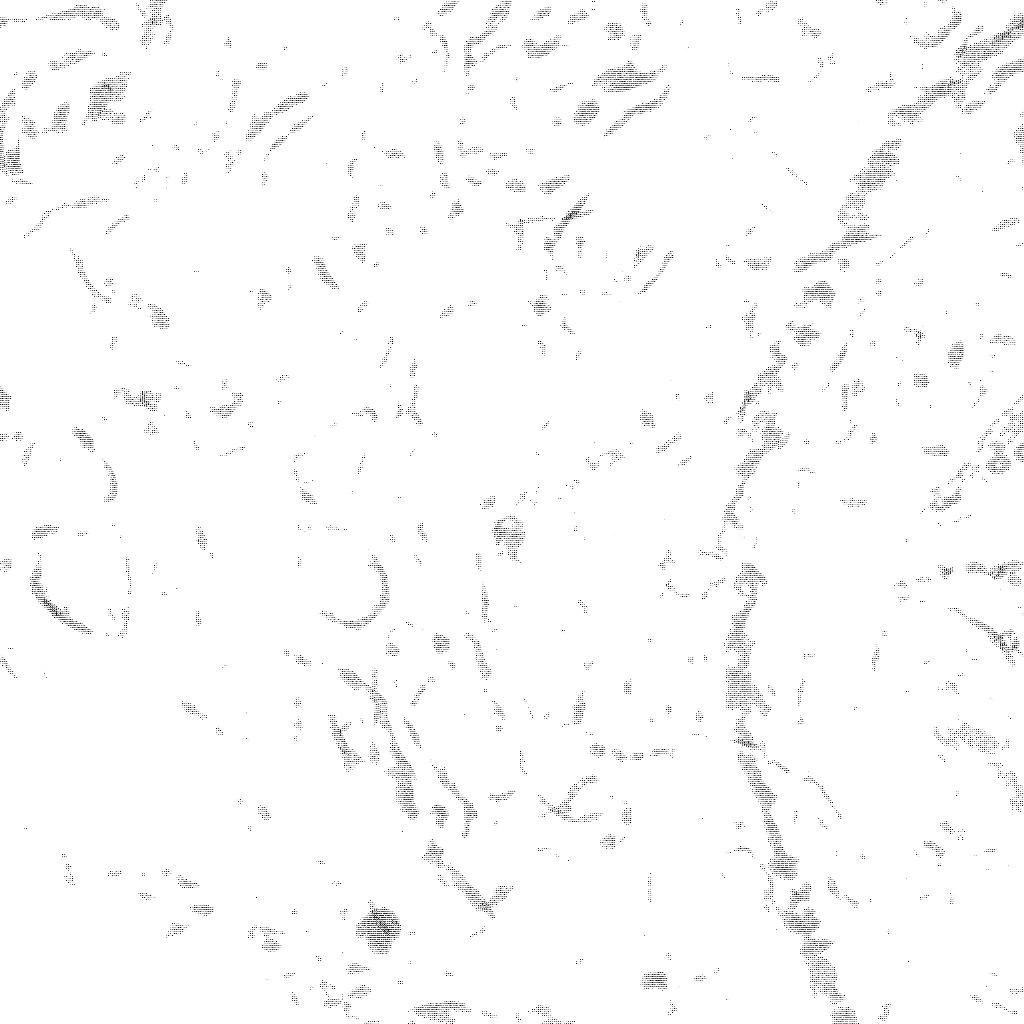axone: (352, 903, 408, 956)
